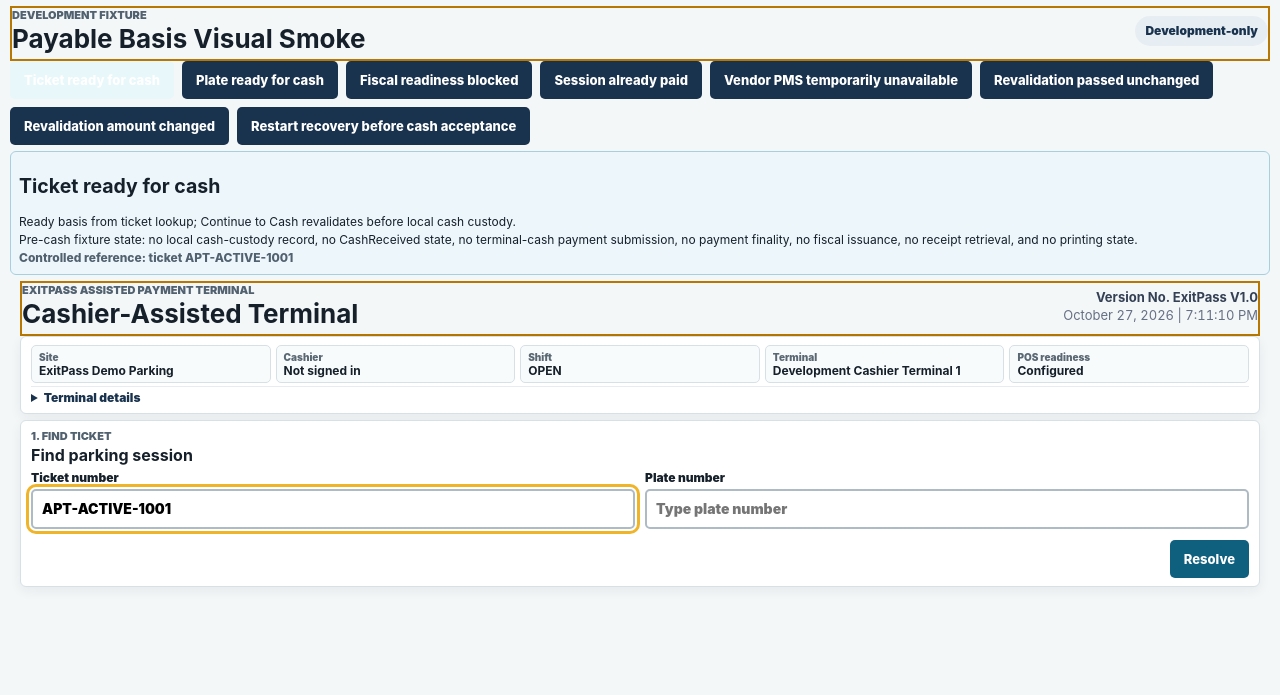
Scenario: PayableBasisVisualSmokeShell › uses the real terminal lookup and direct payment components for ticket and plate ready states
Step 1. Click the button "Resolve" → (1209, 559), box [1170,540,1249,578]
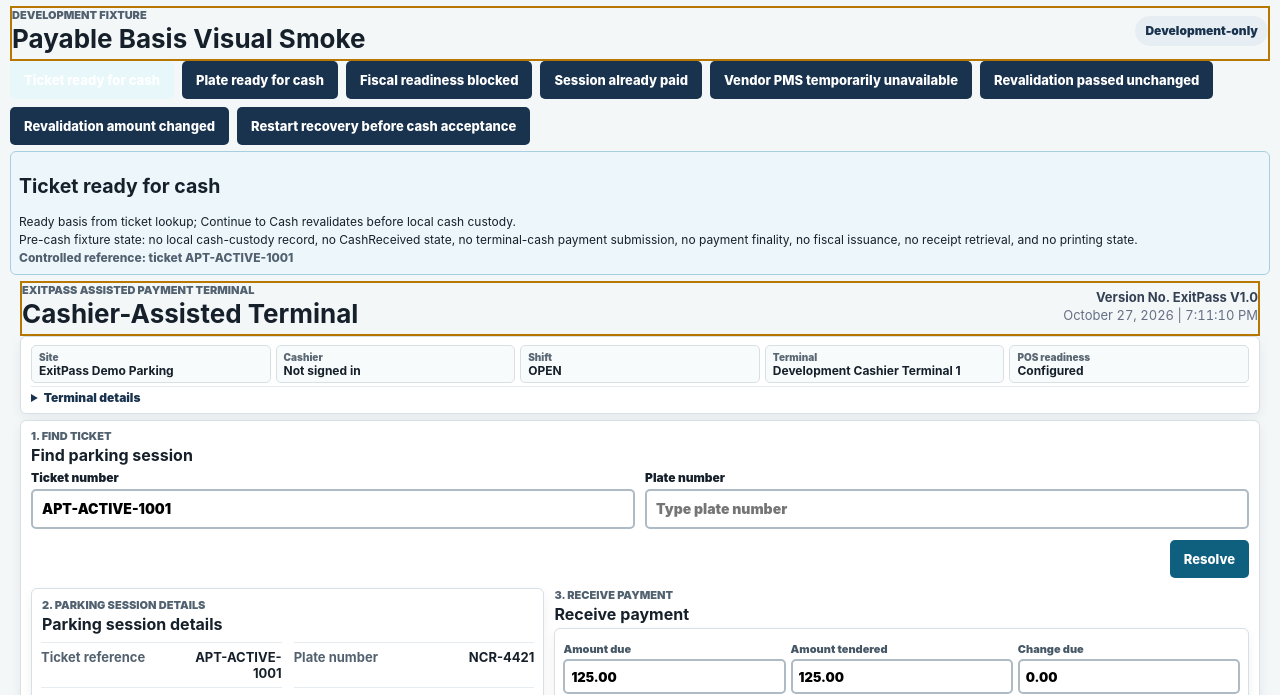
Result: the heading "Parking session details" is shown at [42,614,222,634]
Step 2. Click the button "Plate ready for cash" → (260, 80), box [182,61,338,99]
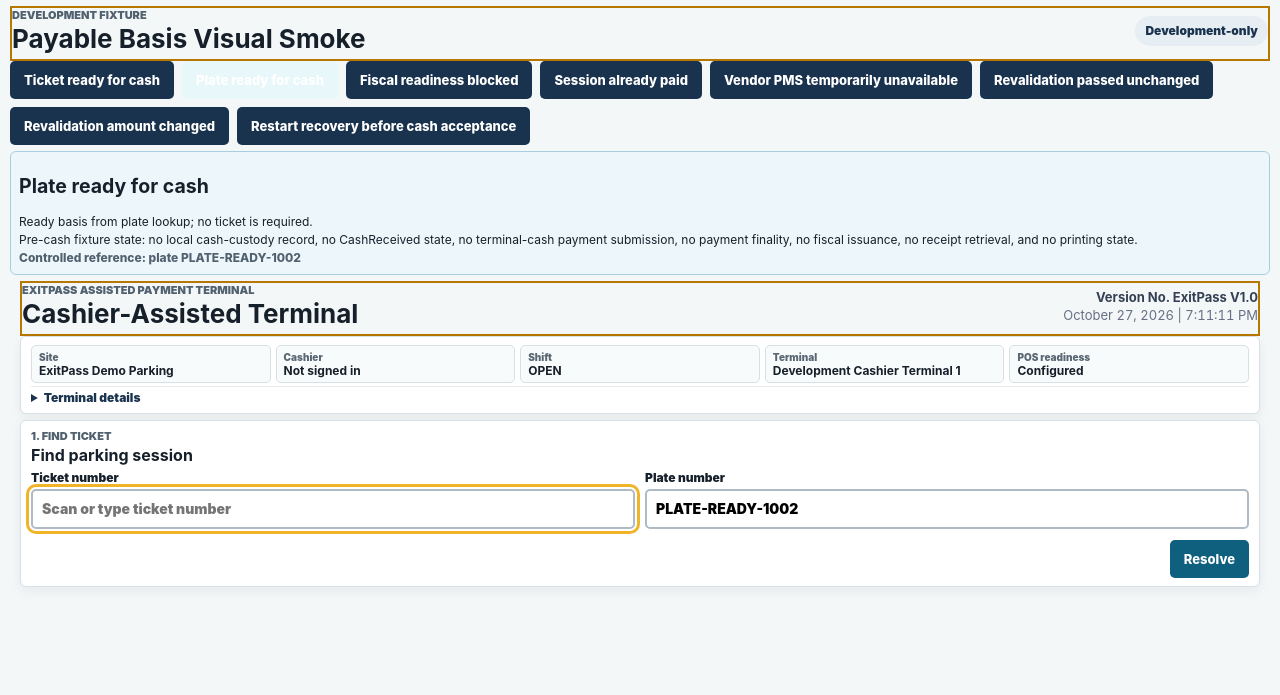
Result: the field labelled "Plate number" holds "PLATE-READY-1002" at [645,489,1249,529]
Step 3. Click the button "Resolve" → (1209, 559), box [1170,540,1249,578]
(page scrolled)
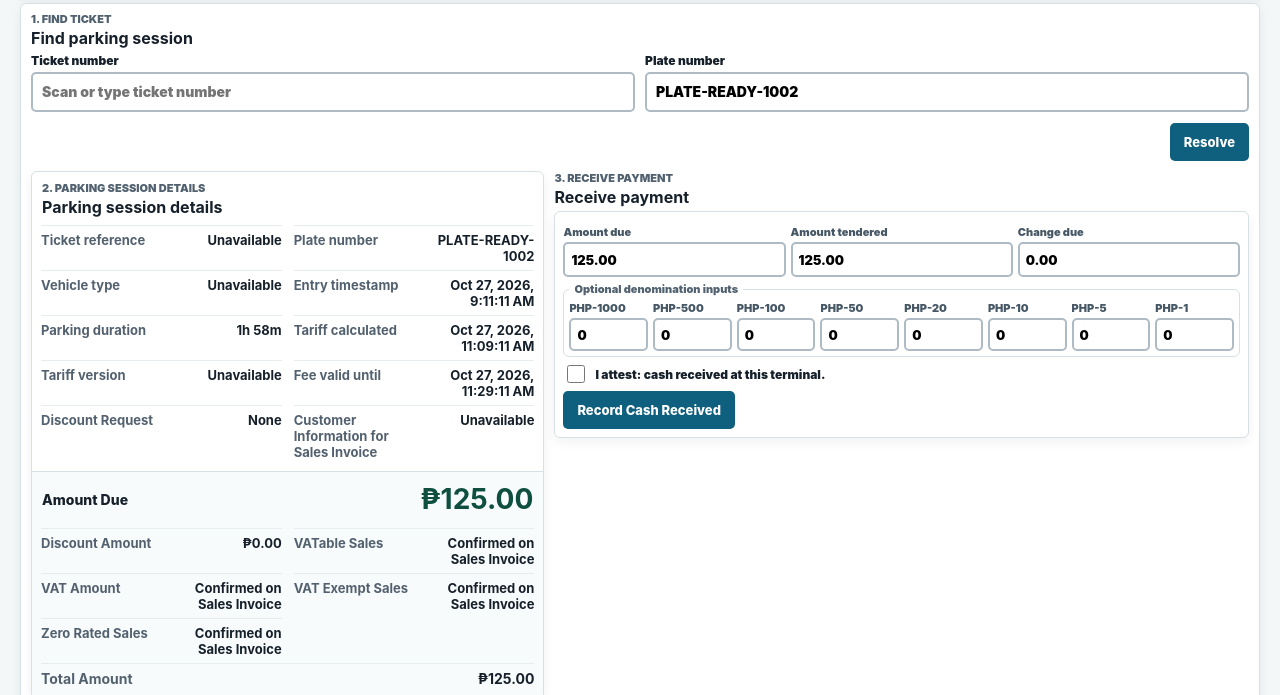
Result: the heading "Parking session details" is shown at [42,197,222,217]
Result: the text "PLATE-READY-1002" is shown at [422,232,534,264]
Result: the button "Record Cash Received" is enabled at [563,391,735,429]
